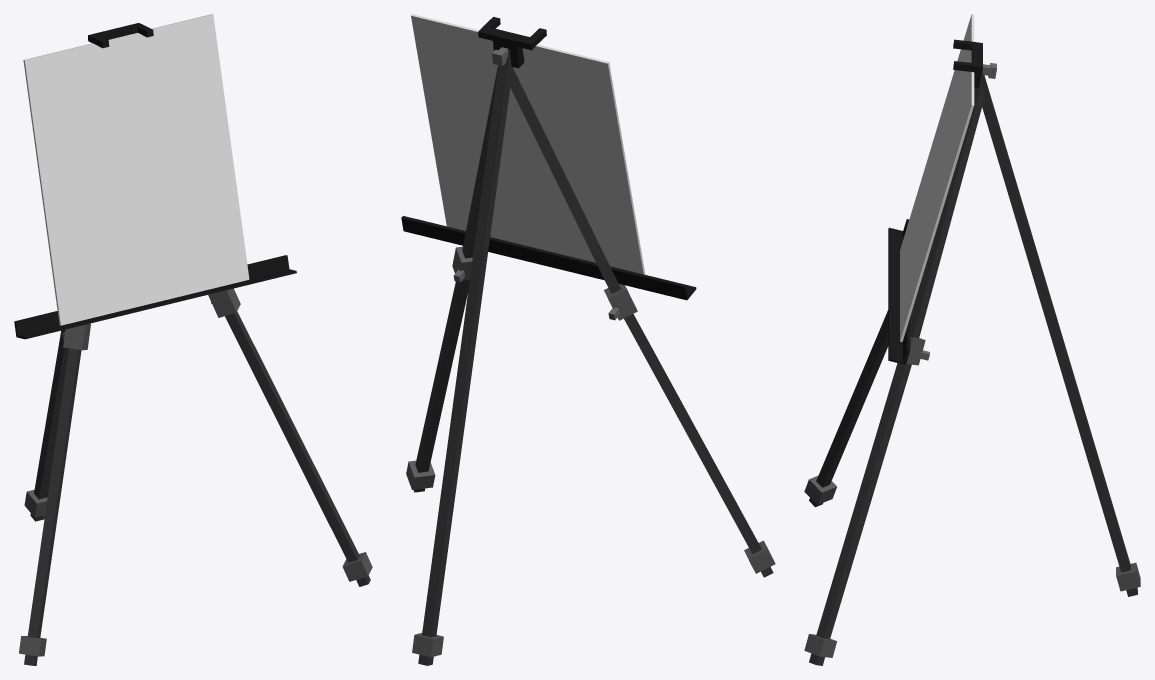
The model's file is Molbert.glb.
3 views of the same model, side by side, from view 1: azimuth 30°, elevation 25°; view 2: azimuth 150°, elevation 25°; view 3: azimuth 270°, elevation 25° (orthographic). The views are drawn at different scales.
Visible parts, largest first — view 1: Paper, Molbert; view 2: Paper, Molbert; view 3: Molbert, Paper.
Part boxes in pixels (x1=…): Paper: x1=23, y1=14, x2=249, y2=325; Molbert: x1=14, y1=23, x2=372, y2=665; Paper: x1=411, y1=14, x2=645, y2=274; Molbert: x1=401, y1=17, x2=775, y2=665; Molbert: x1=804, y1=39, x2=1140, y2=665; Paper: x1=900, y1=14, x2=974, y2=341.
Size of the model in its own units: 2.8 by 4.16 by 2.33.
Materials: 2 (1 with a texture image).
